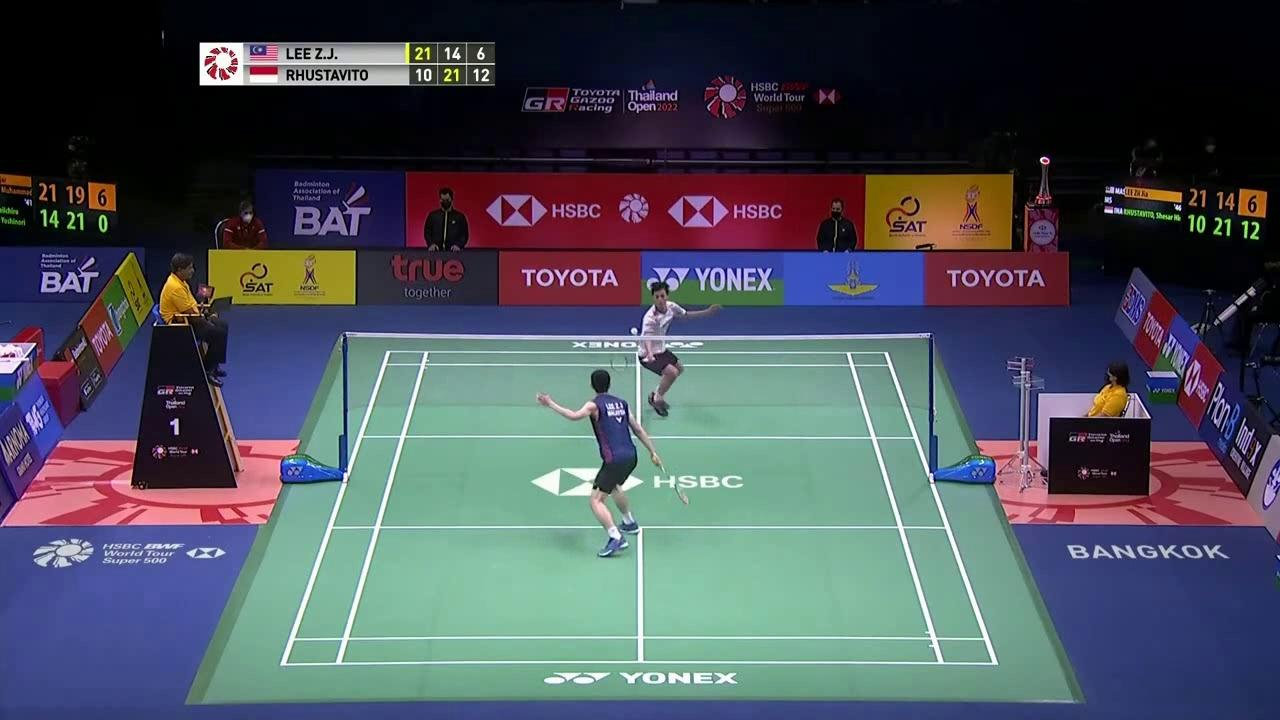racket: (651, 455, 691, 508), (609, 350, 657, 374)
shuttle: (630, 326, 639, 336)
